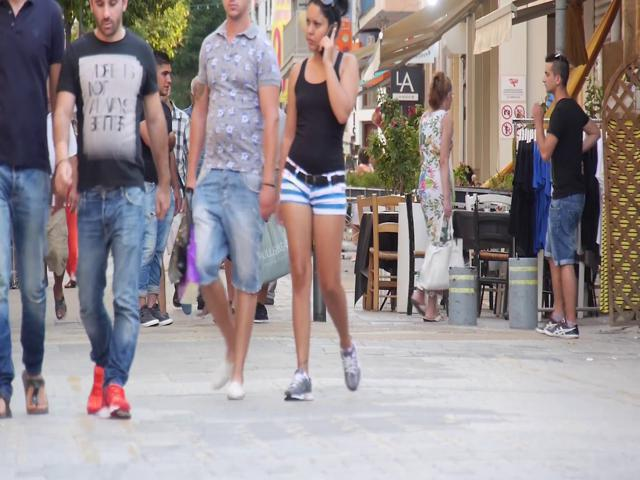shoe: (97, 383, 131, 419), (22, 370, 48, 414), (339, 343, 361, 391), (283, 369, 314, 401), (211, 359, 234, 389), (545, 319, 578, 339), (52, 282, 67, 319), (140, 303, 159, 326), (227, 380, 245, 400)
